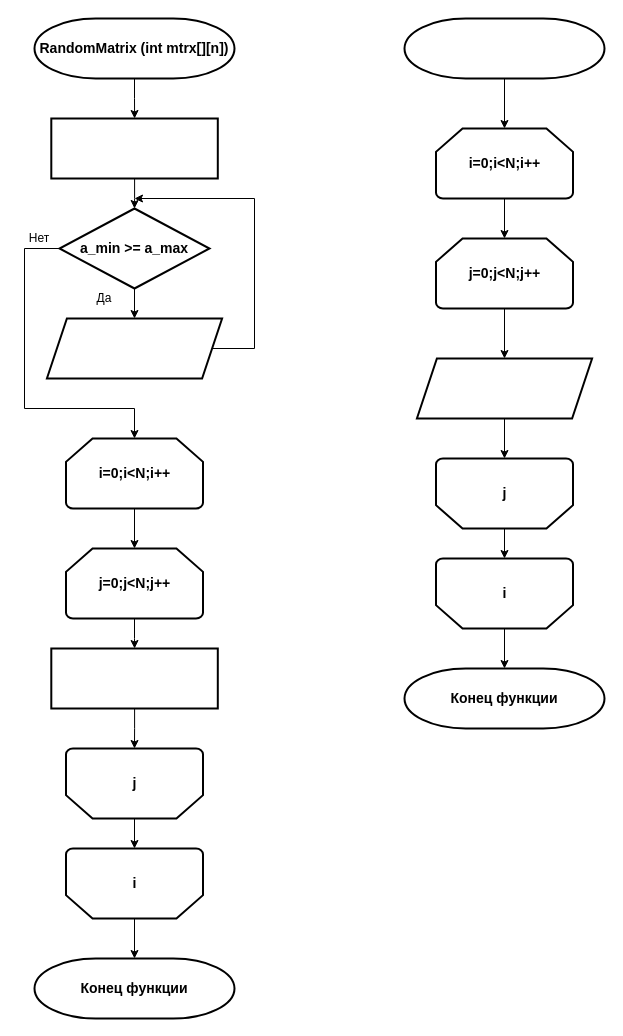
Image size: 623x1036. Some labels were removed from this diagram. Each missing label, with the box of its shape:
a_min=0 a_max=0: (50, 117, 218, 179)
mtrx[i][j] = rand()% (a_max-a_min)+a_min: (50, 647, 218, 709)
PrintMatrix (int mtrx[][n] ): (403, 17, 605, 79)
Ввести диапазон допуст. знач.: (45, 317, 223, 379)
Вывести mtrx[i][j]: (415, 357, 593, 419)
